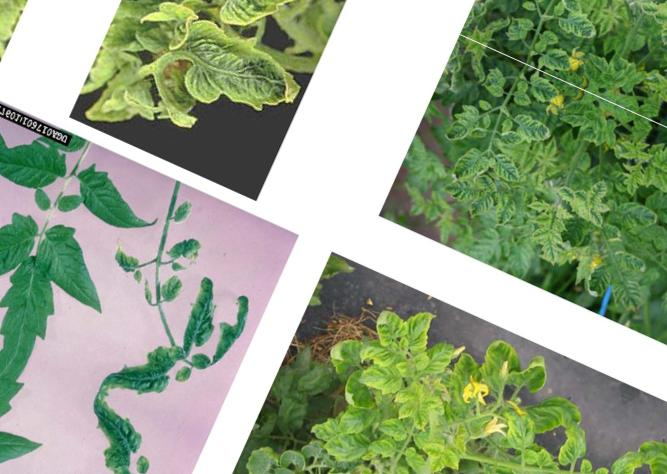Tomato leaf yellow virus: (140, 0, 318, 139), (149, 0, 323, 53), (469, 336, 527, 395), (435, 98, 491, 154), (434, 138, 490, 192), (357, 298, 414, 351), (317, 418, 373, 471), (494, 399, 546, 452), (554, 413, 598, 471), (355, 355, 409, 401), (601, 266, 650, 311), (507, 111, 557, 154), (416, 333, 459, 381), (475, 145, 526, 185), (521, 67, 566, 107), (437, 170, 482, 206), (462, 188, 498, 227), (618, 156, 650, 197), (491, 189, 523, 230), (557, 104, 595, 137), (375, 411, 412, 443), (583, 173, 614, 210), (402, 401, 434, 432), (416, 383, 448, 413), (549, 179, 580, 206), (415, 432, 446, 457), (439, 444, 468, 470), (648, 140, 667, 179), (453, 461, 503, 474), (580, 207, 605, 227), (531, 223, 553, 245), (661, 169, 667, 199), (527, 474, 567, 474)
